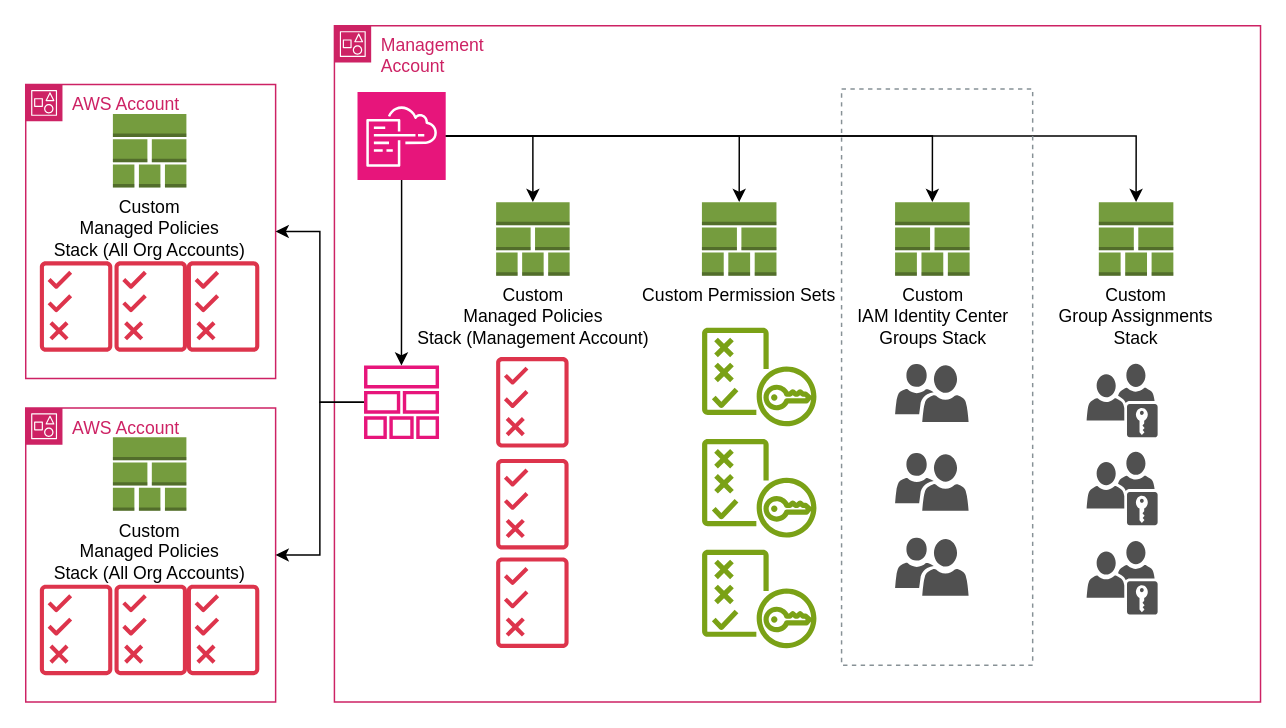
The diagram is 1286 pixels wide and 728 high, and some of its shapes have lost their labels. The box of each missing label's shape, as (x1, y1, x2, y2) in pixels:
Custom Managed Policies StackSet: (363, 365, 439, 438)
Optional: (840, 87, 1033, 665)
